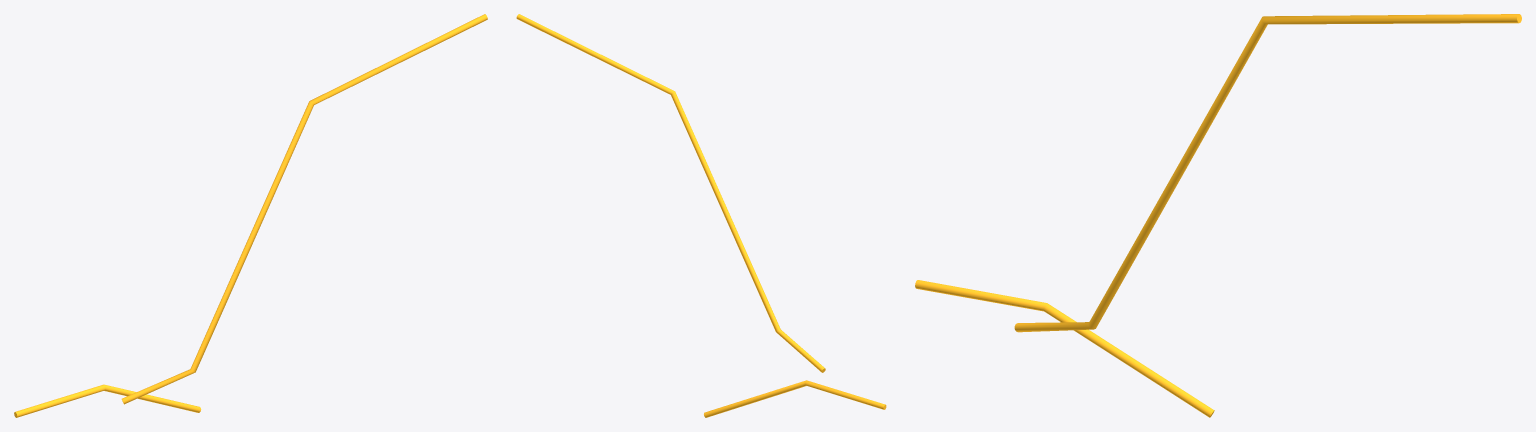
File: m2p_hydraulic_excavator_hydraulics.glb
3 renders of one model, left to right at view 1: azimuth 30°, elevation 25°; view 2: azimuth 150°, elevation 25°; view 3: azimuth 330°, elevation 25°, orthographic. The views are drawn at different scales.
Parts seen in each view (by area): view 1: hyd; view 2: hyd; view 3: hyd.
Part boxes in pixels (bbox=[...]): hyd: bbox=[14, 14, 487, 417]; hyd: bbox=[516, 14, 886, 417]; hyd: bbox=[915, 14, 1521, 417].
Size of the model in its own units: 8.04 by 6.34 by 1.3.
